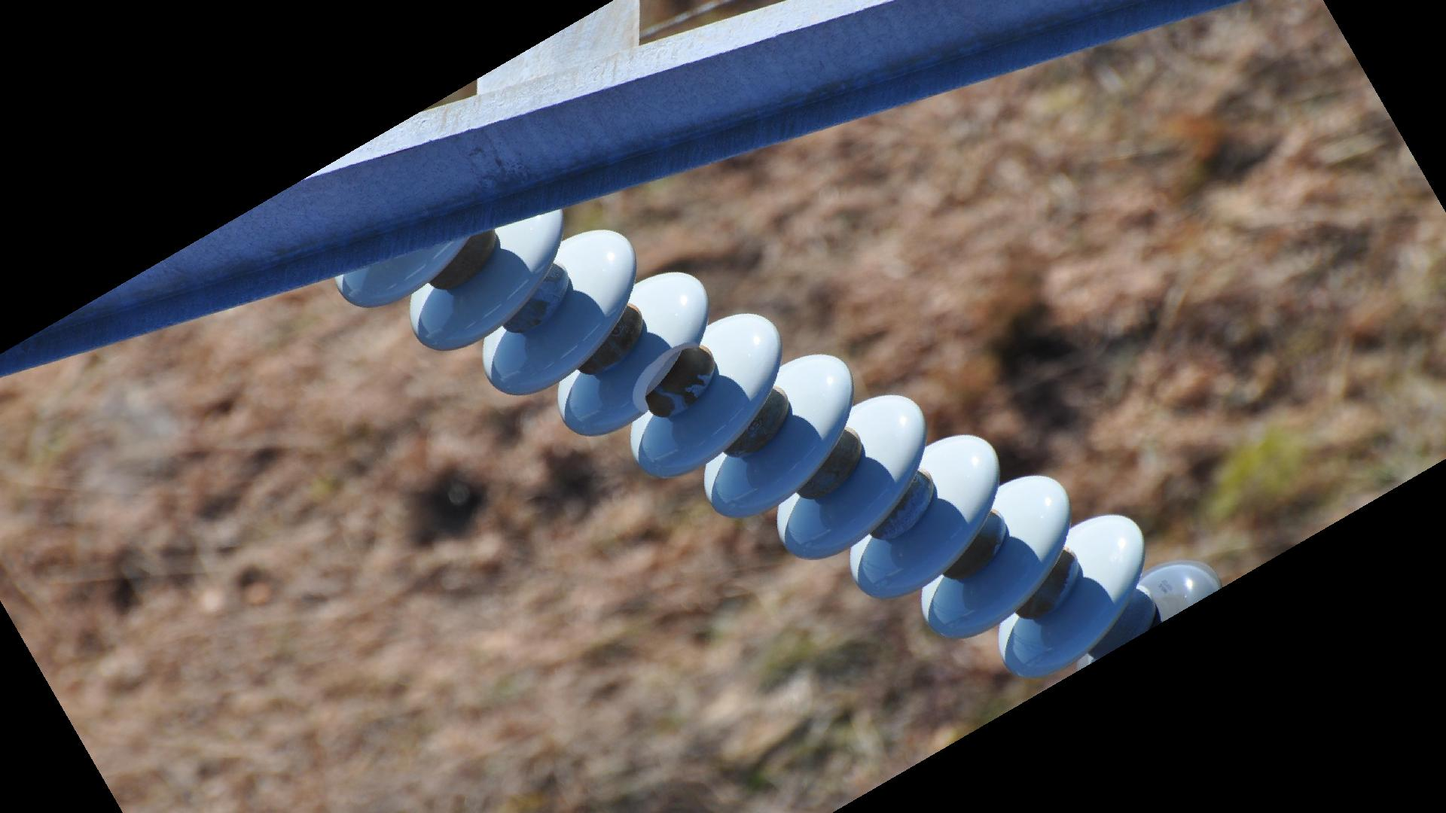insulator: (331, 209, 1225, 693)
insulator_breakage: (627, 334, 704, 421)
